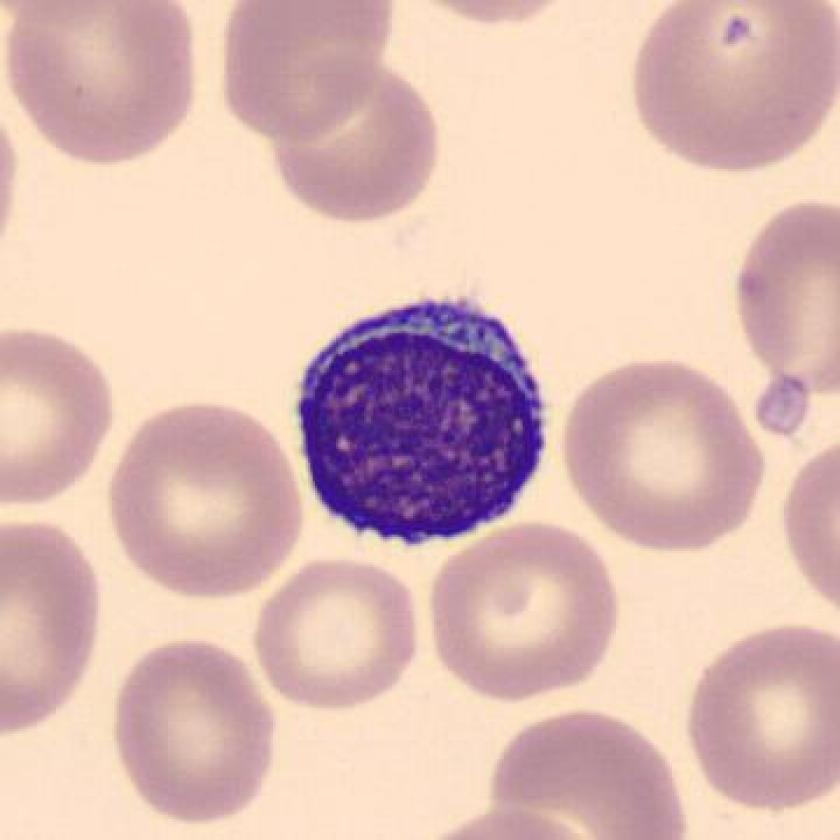lymphocyte: (291, 293, 564, 552)
